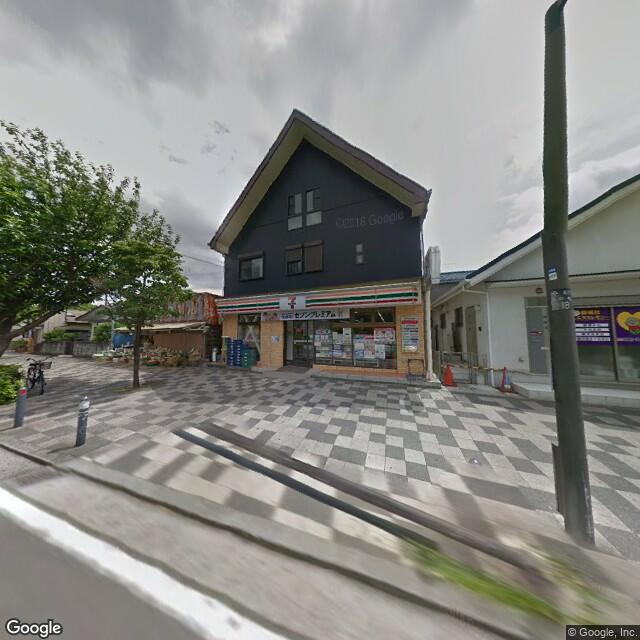7-eleven: (214, 277, 426, 316)
